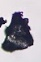microplastic: (1, 11, 35, 53), (1, 16, 8, 29)
